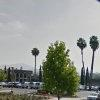Tree: (41, 38, 79, 98)
